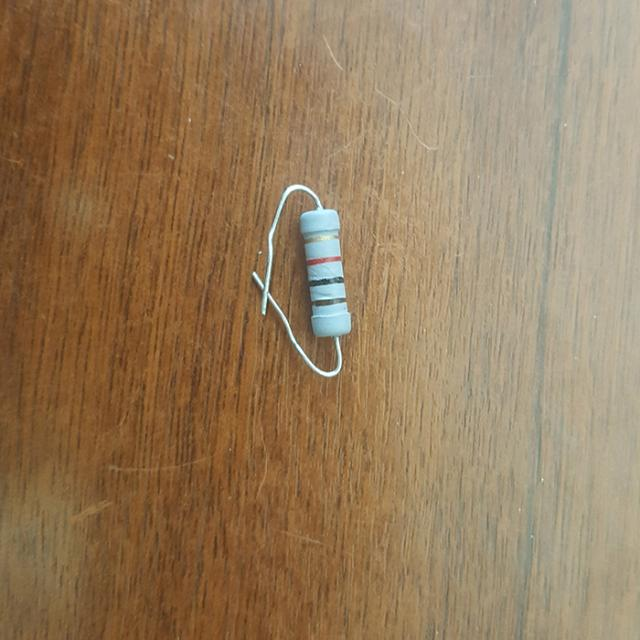black: (309, 275, 343, 285)
brown: (313, 298, 346, 305)
gold: (305, 235, 338, 242)
red: (308, 255, 340, 264)
resistor: (293, 207, 370, 343)
